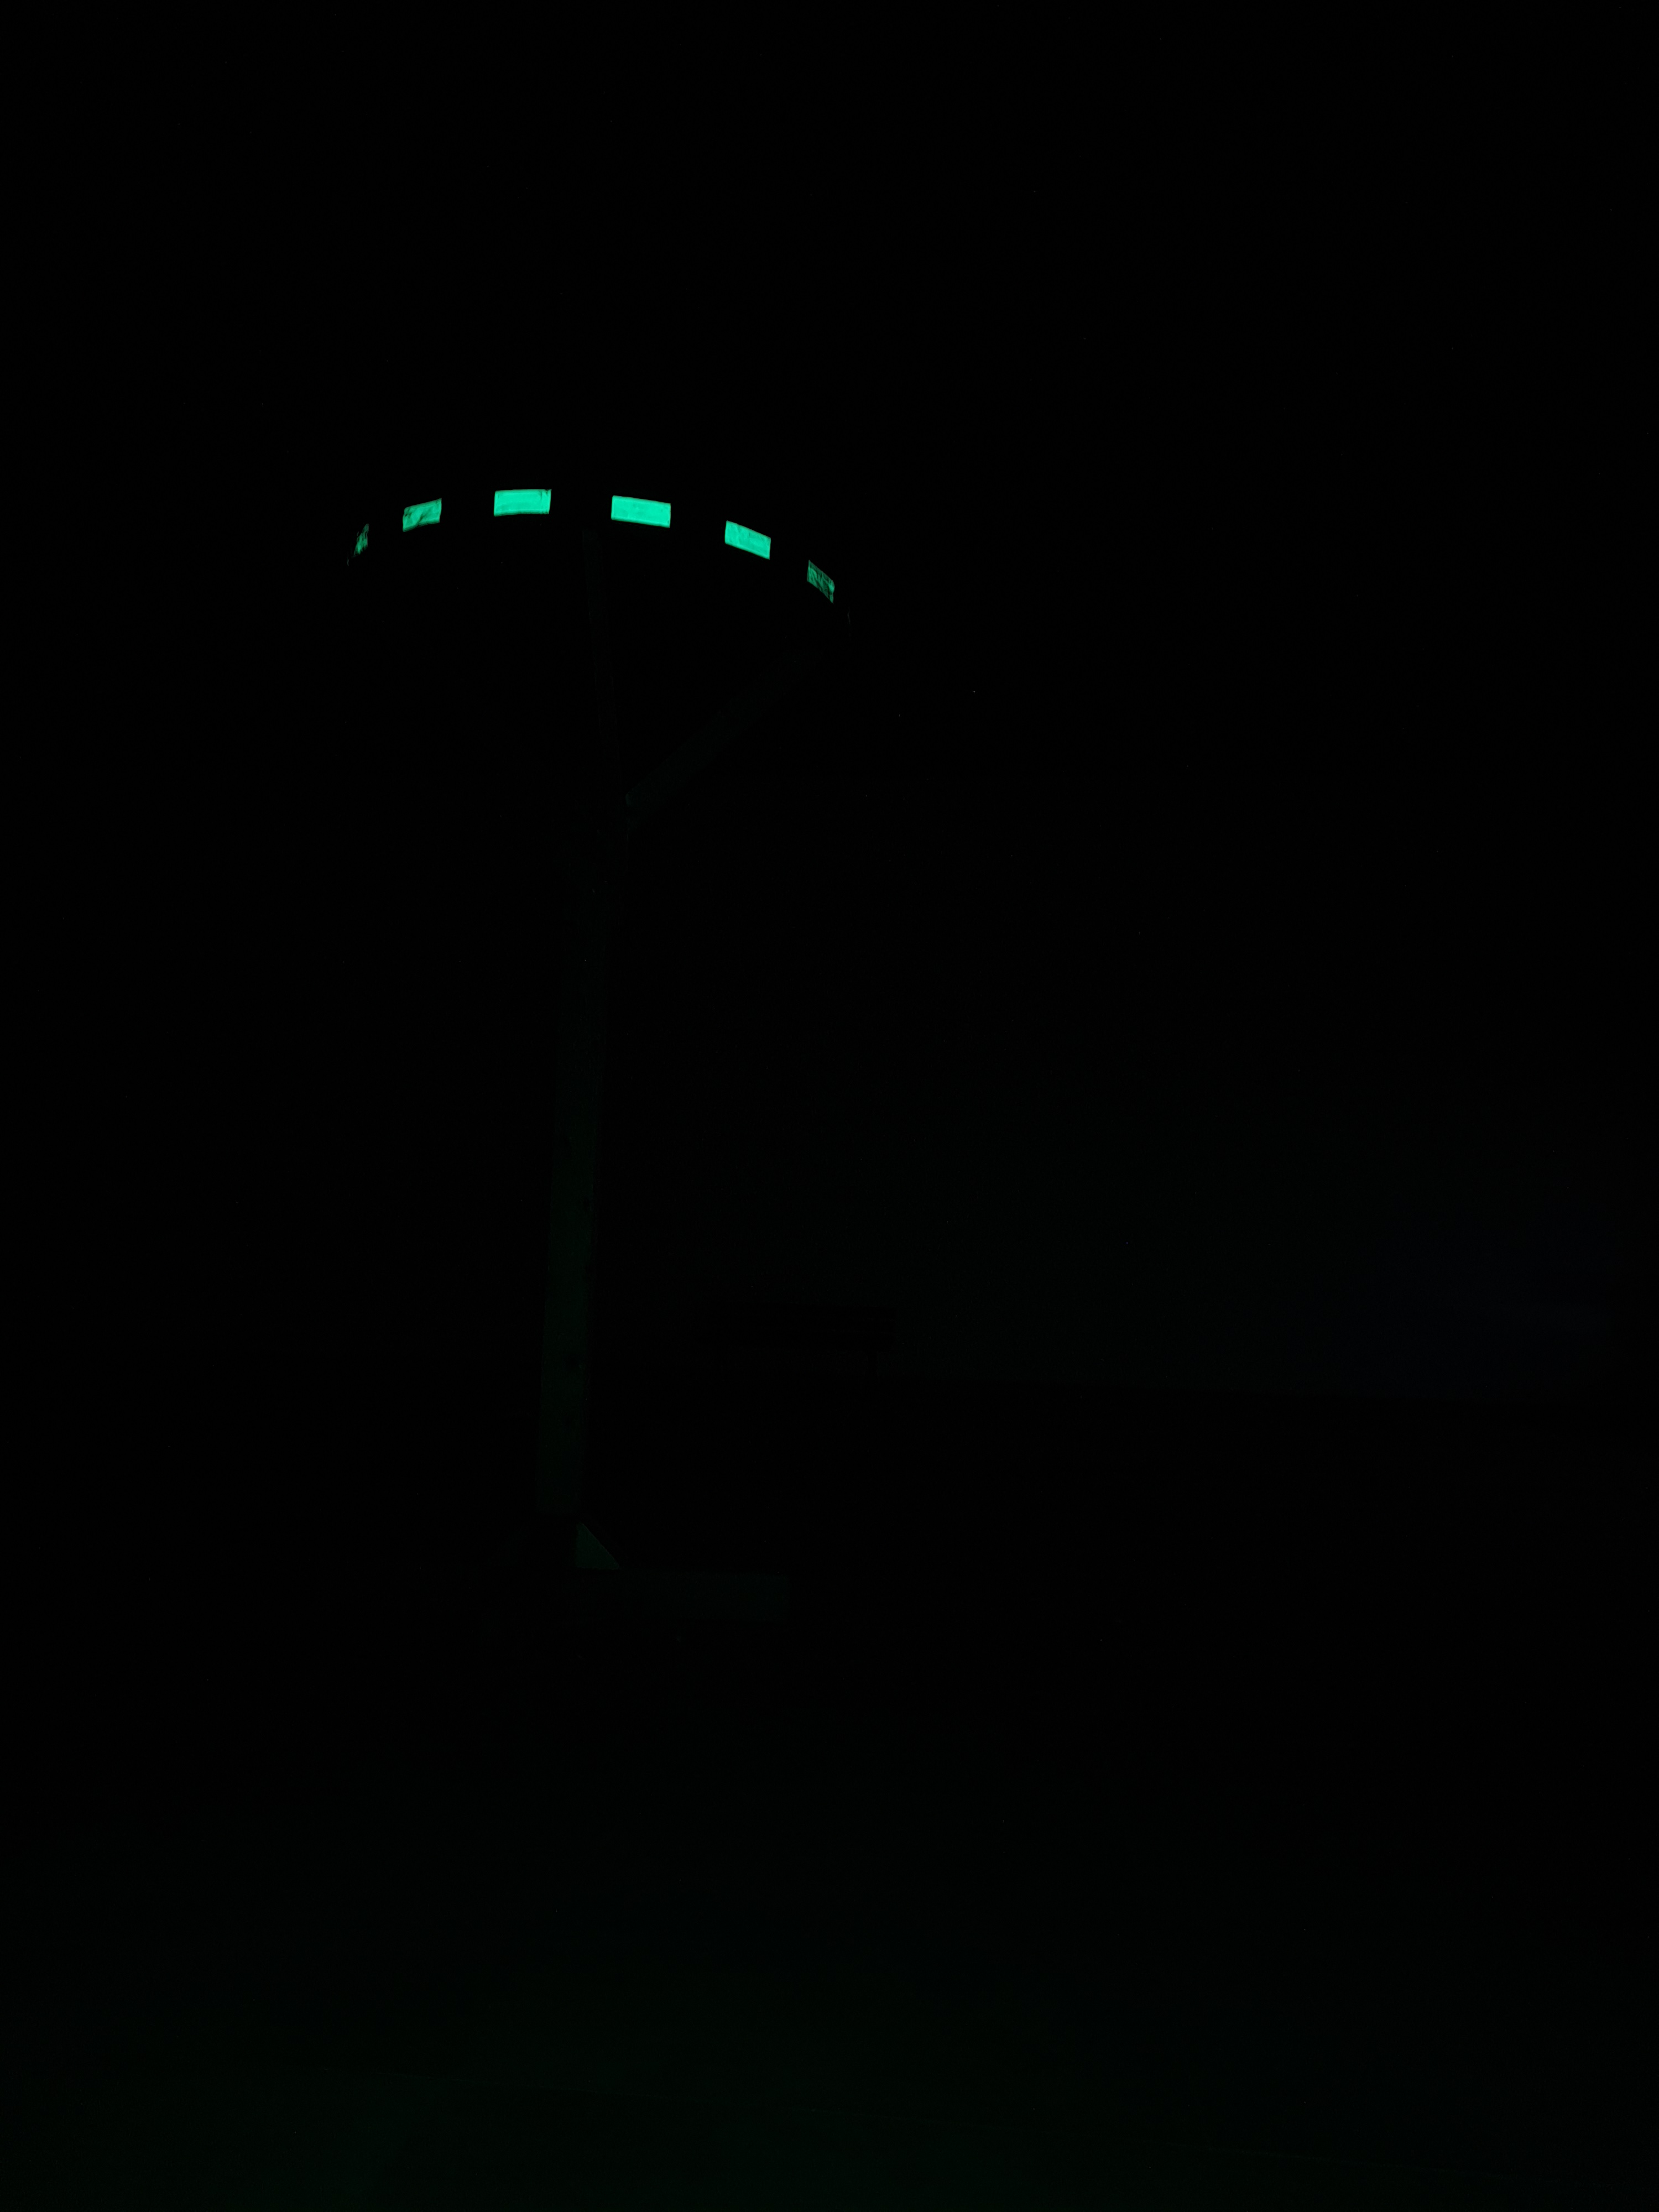hoop: (333, 477, 847, 610)
